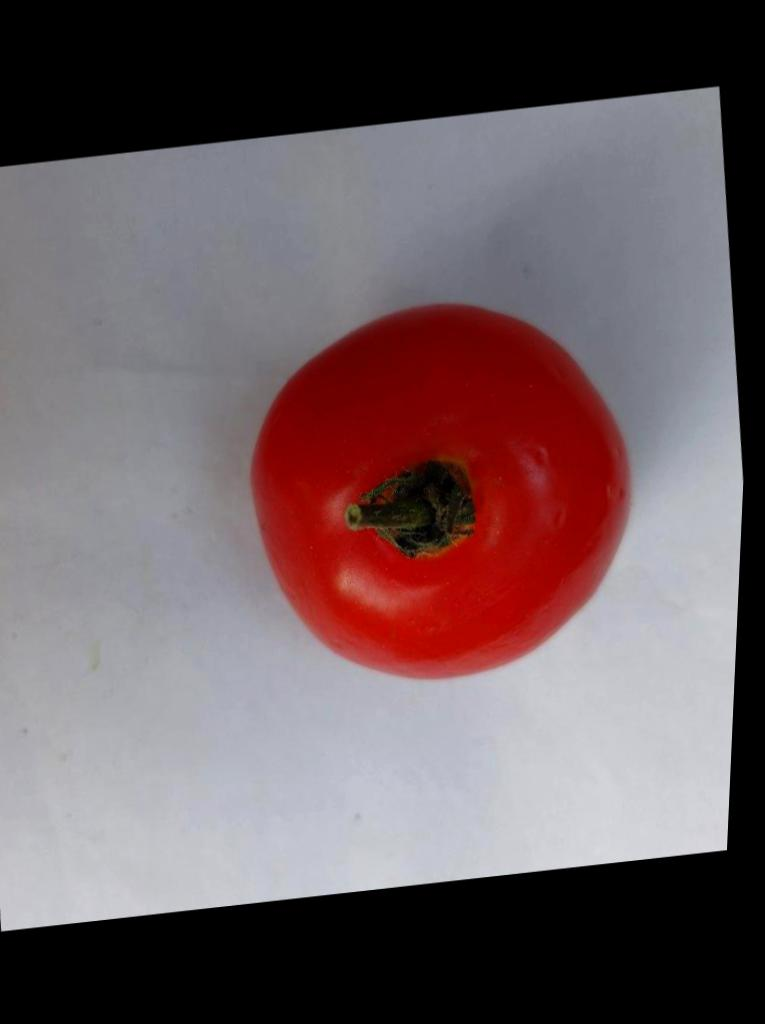tomato: (252, 304, 629, 678)
